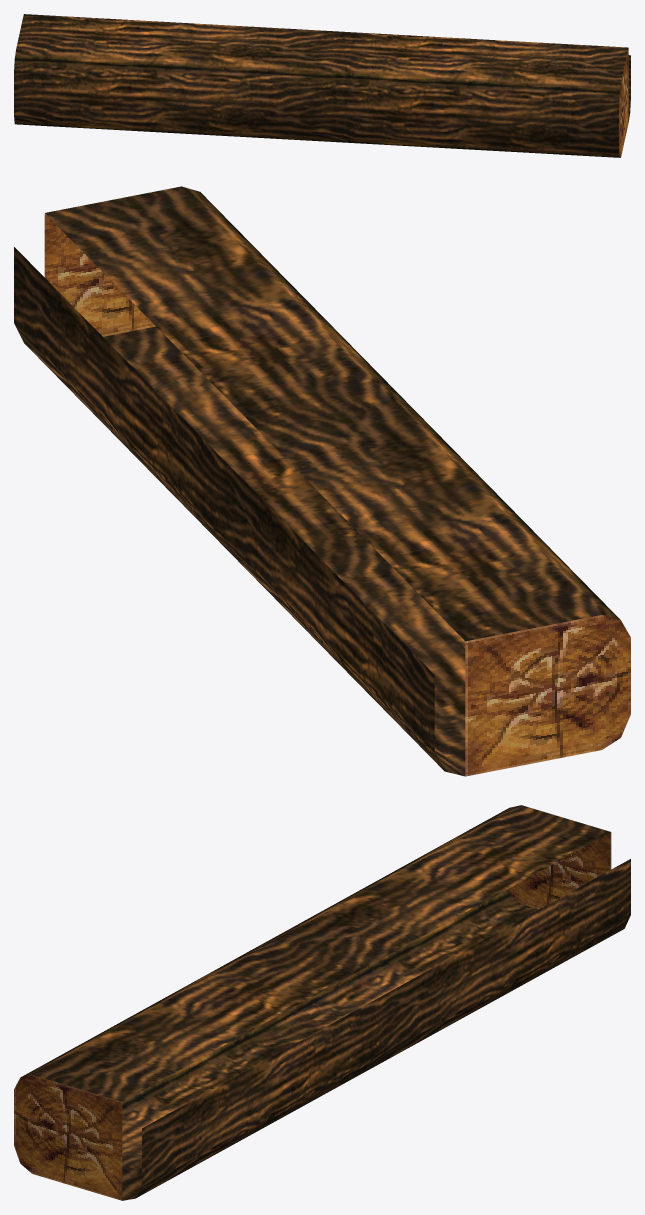
The model's file is OVERHILL_A_01_LINE287.fbx.
The picture shows the model from 3 angles, top to bottom: view 1: azimuth 30°, elevation 25°; view 2: azimuth 150°, elevation 25°; view 3: azimuth 270°, elevation 25°; orthographic projection. The views are drawn at different scales.
Parts seen in each view (by area): view 1: OVERHILL_A_01_LINE287; view 2: OVERHILL_A_01_LINE287; view 3: OVERHILL_A_01_LINE287.
Boxes of the visible parts, <box> form: OVERHILL_A_01_LINE287: <box>14,14,630,157</box>; OVERHILL_A_01_LINE287: <box>14,186,630,776</box>; OVERHILL_A_01_LINE287: <box>14,805,630,1200</box>.
Bounding box in the file's own units: 31335 × 4688 × 26463.
2 materials, 2 textured.
